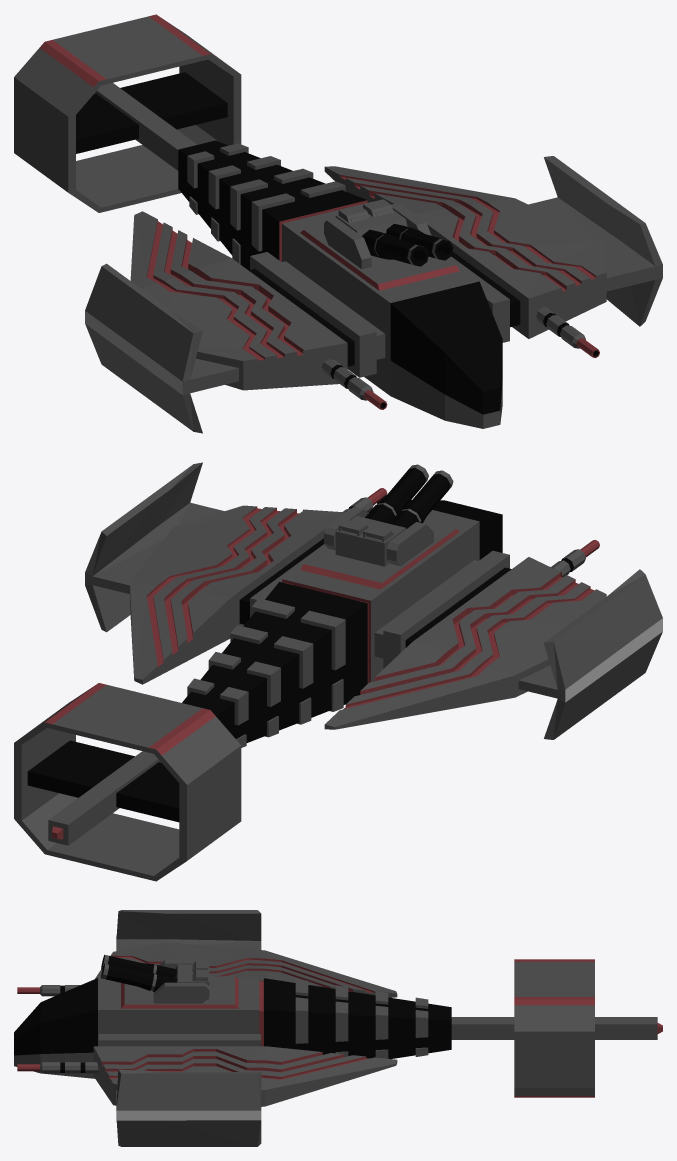
Rendered from Spaceship9_2.fbx.
3 renders of one model, top to bottom at view 1: azimuth 30°, elevation 25°; view 2: azimuth 150°, elevation 25°; view 3: azimuth 270°, elevation 25°, orthographic. The views are drawn at different scales.
Visible parts, largest first — view 1: Spaceship9_2; view 2: Spaceship9_2; view 3: Spaceship9_2.
Boxes of the visible parts, left/top/right/bottom form: Spaceship9_2: left=14, top=14, right=662, bottom=433; Spaceship9_2: left=14, top=462, right=662, bottom=881; Spaceship9_2: left=14, top=910, right=662, bottom=1146.
Bounding box in the file's own units: 1328 × 420 × 2092.
